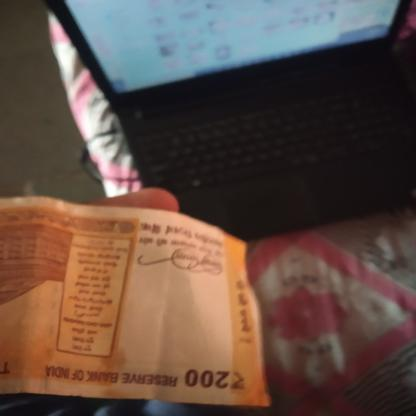New200Back: (0, 199, 265, 402)
